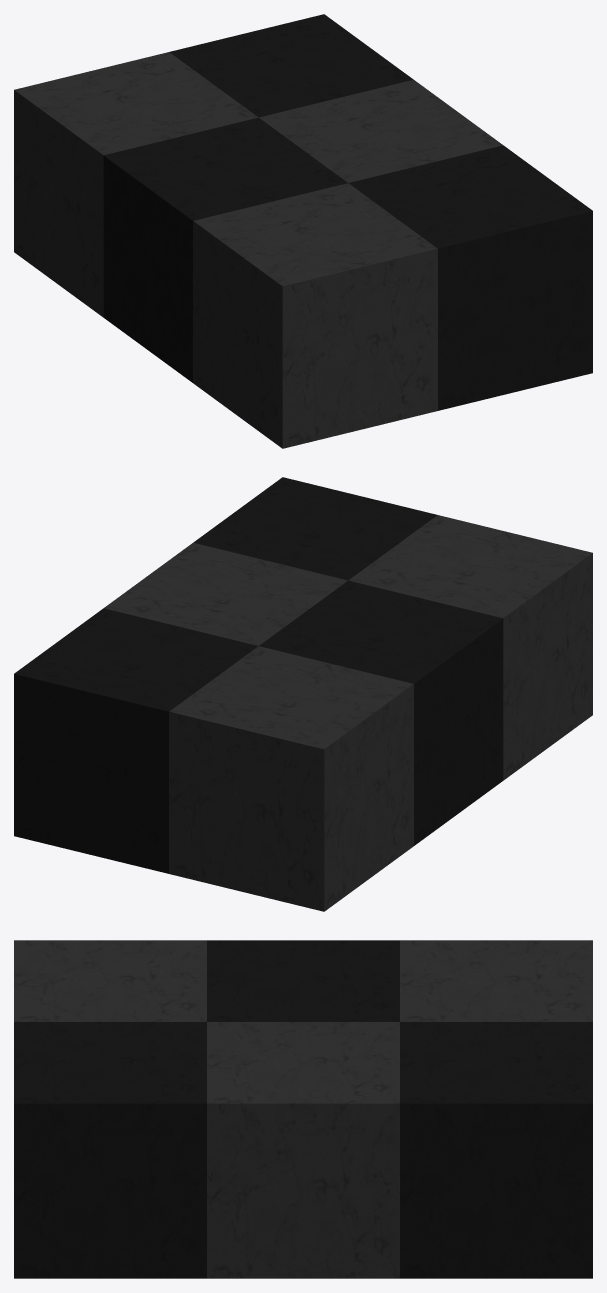
The model's file is Checkerboard Platform.fbx.
3 renders of one model, top to bottom at view 1: azimuth 30°, elevation 25°; view 2: azimuth 150°, elevation 25°; view 3: azimuth 270°, elevation 25°, orthographic. The views are drawn at different scales.
Parts seen in each view (by area): view 1: Cube; view 2: Cube; view 3: Cube.
Part boxes in pixels (left/top/right/bottom): Cube: left=14, top=14, right=592, bottom=448; Cube: left=14, top=477, right=592, bottom=911; Cube: left=14, top=940, right=592, bottom=1278.
Bounding box in the file's own units: 200 × 100 × 300.
1 material, 1 textured.
